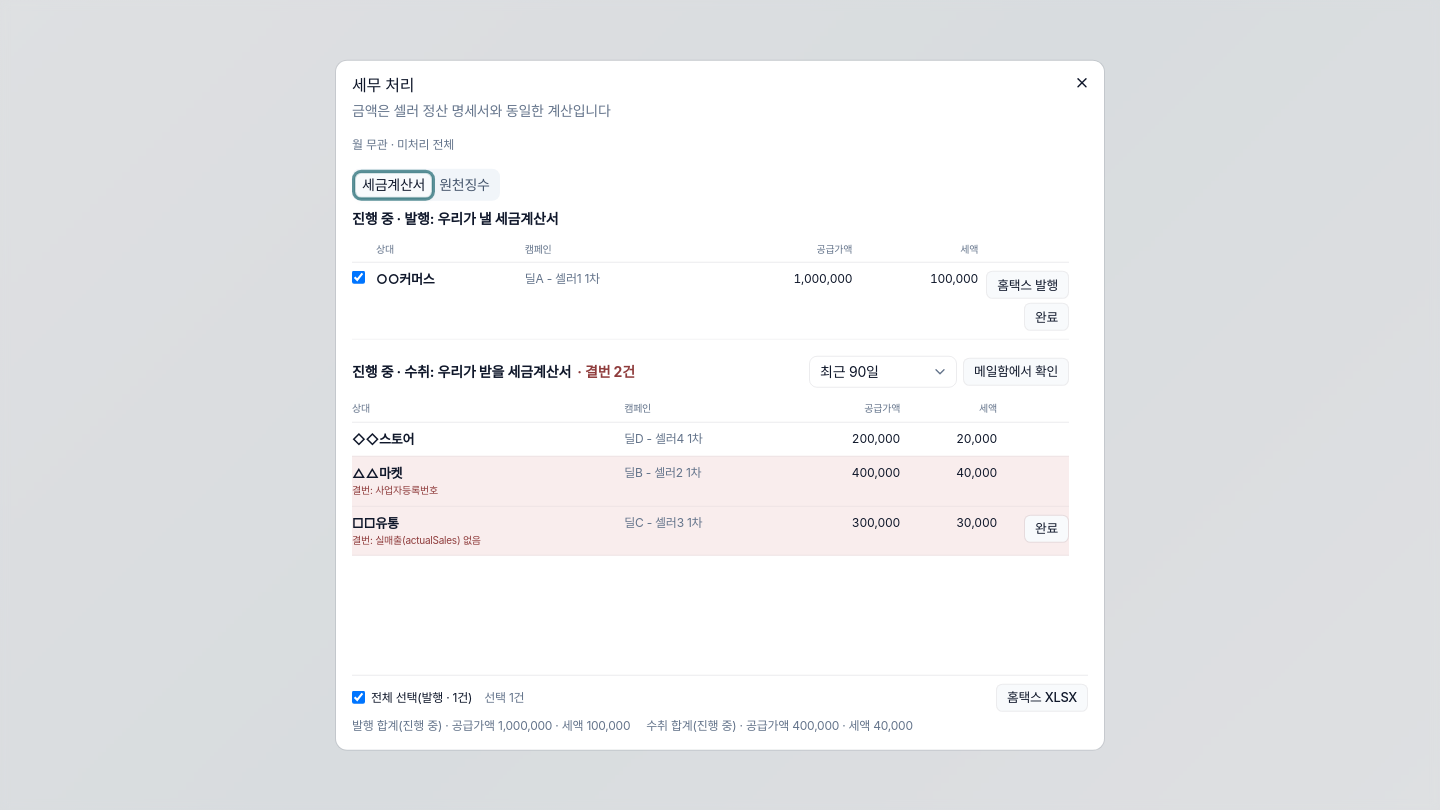
Test: 세무 처리 다이얼로그 — 홈택스 XLSX 생성 › 400 응답의 details 를 화면에 남겨 어느 캠페인을 빼야 하는지 보여준다
Expected: the text "○○커머스" is shown, [376,271,434,287]
Click the button "홈택스 XLSX": (1042, 697) [996,683,1088,711]
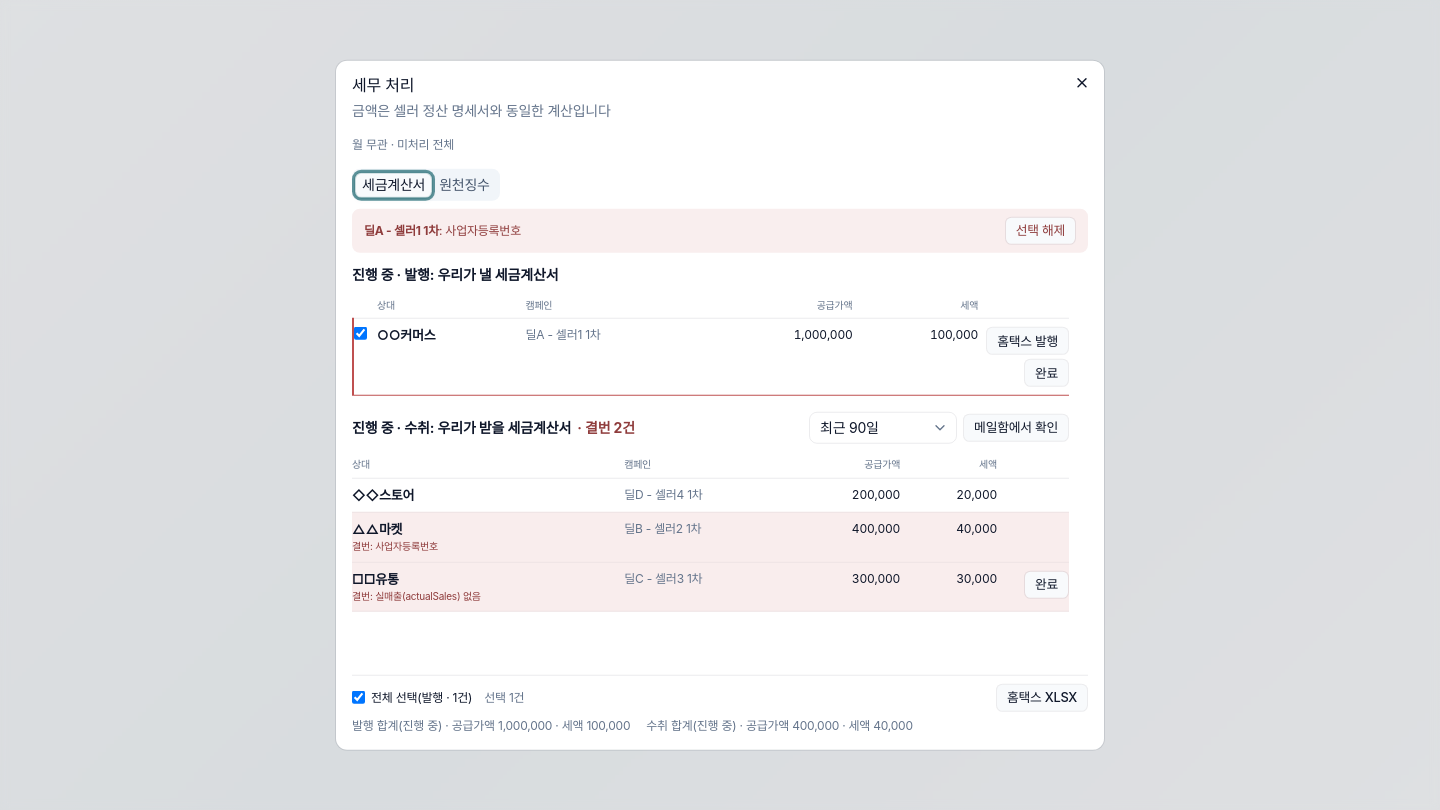
Result: the text "딜A - 셀러1 1차" is shown at [364,223,439,238]
Result: the text "딜A - 셀러1 1차: 사업자등록번호" is shown at [364,223,521,239]
